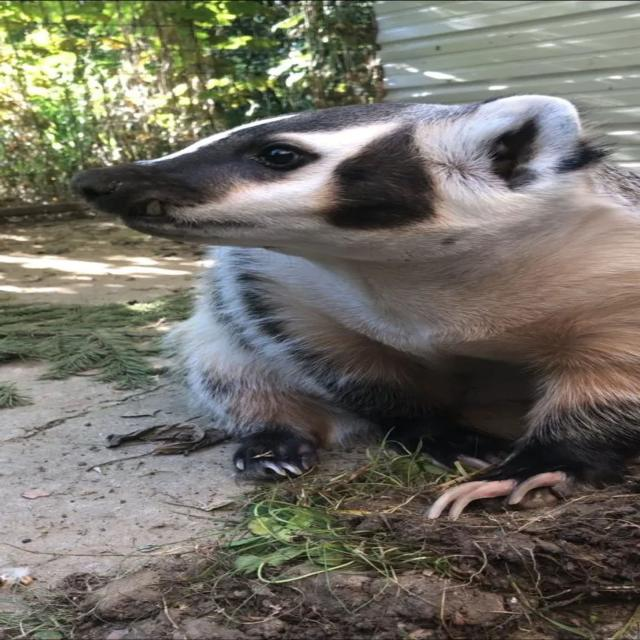Badger: (65, 90, 640, 522)
